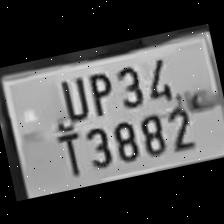2: (160, 100, 197, 156)
3: (78, 120, 114, 174), (108, 59, 145, 110)
4: (136, 50, 176, 104)
8: (134, 106, 168, 158), (106, 114, 140, 164)
P: (79, 65, 116, 118)
T: (48, 124, 89, 180)
U: (49, 70, 91, 124)
